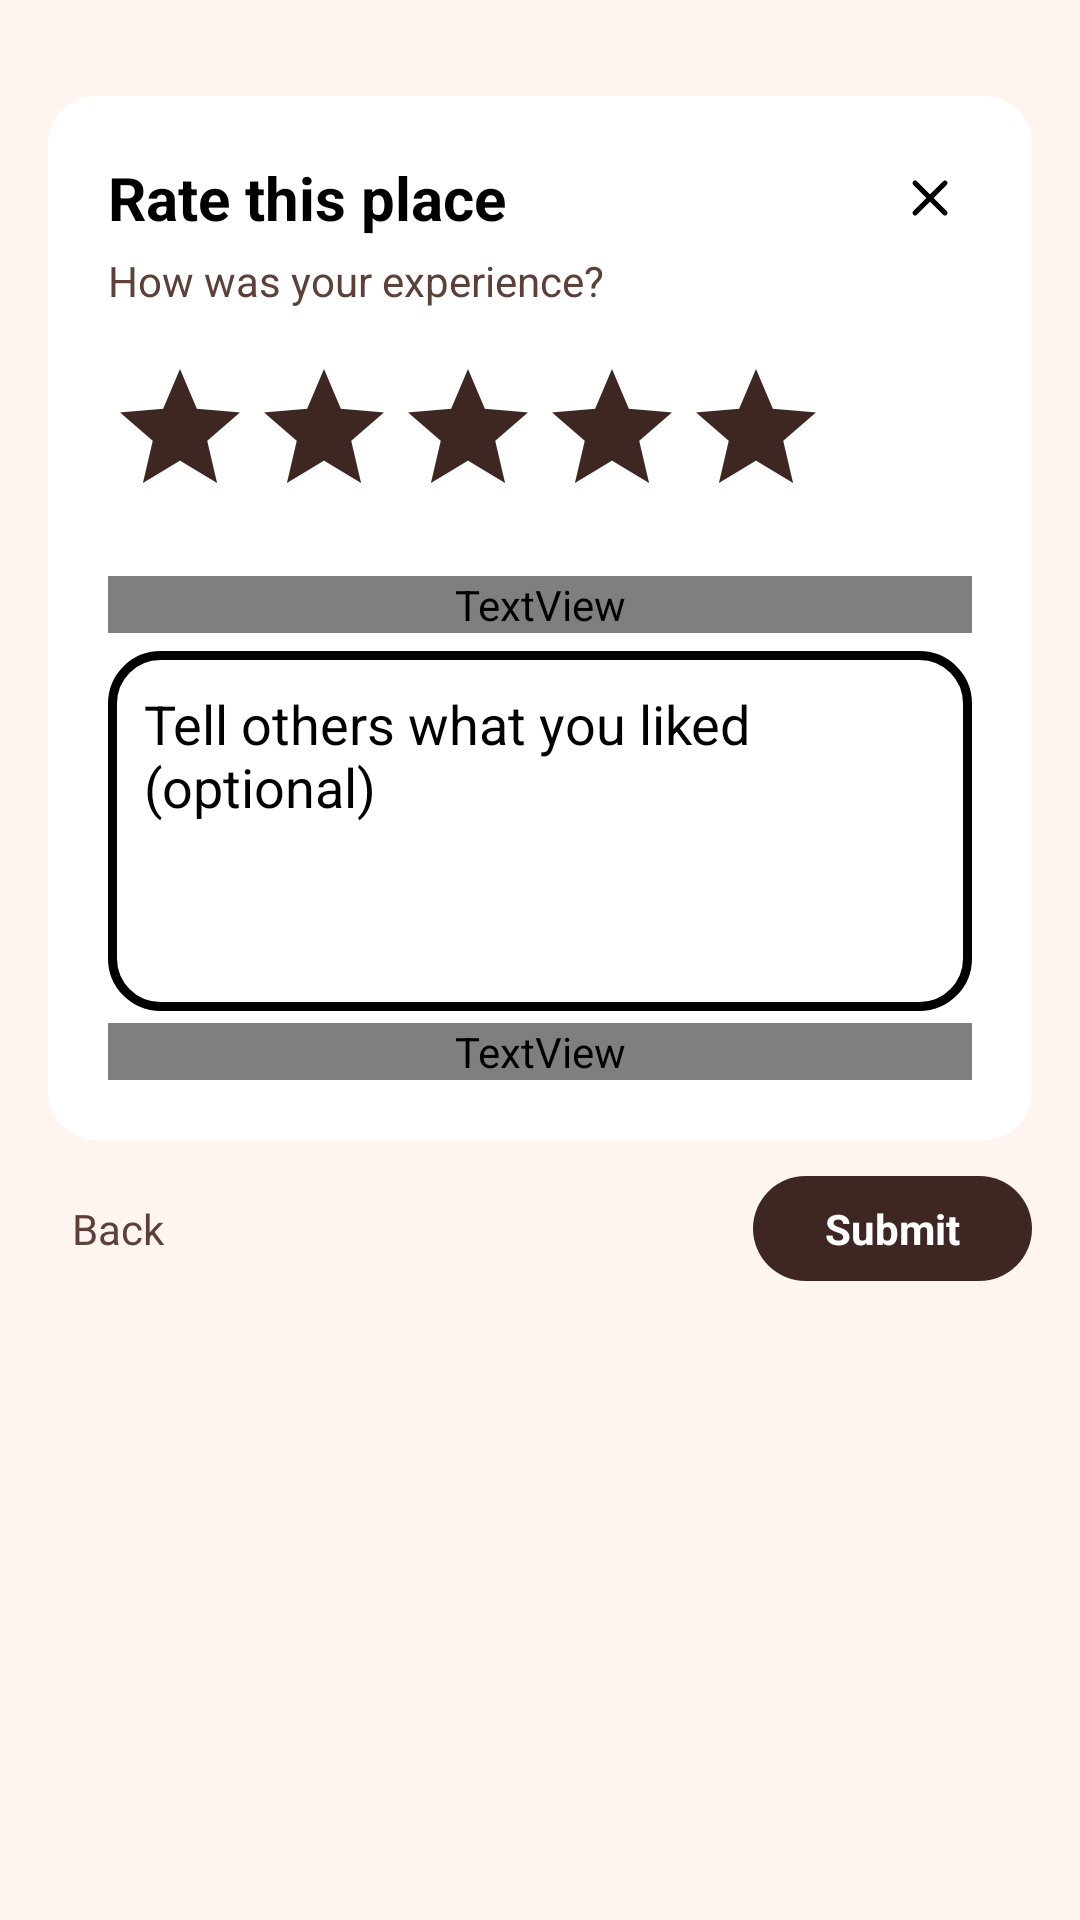

Screen size 1080×1920. Icon name, then its box in pixels as (x1, y1, x2, y2):
Close: (912, 180, 948, 216)
